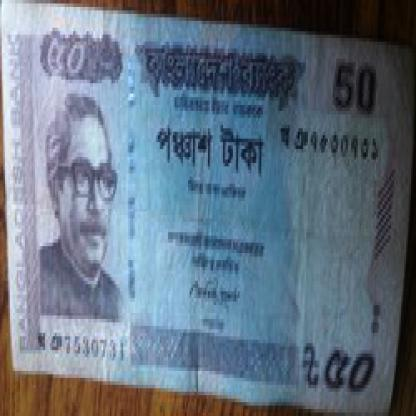Fifty taka: (301, 336, 383, 409), (43, 28, 102, 90)
